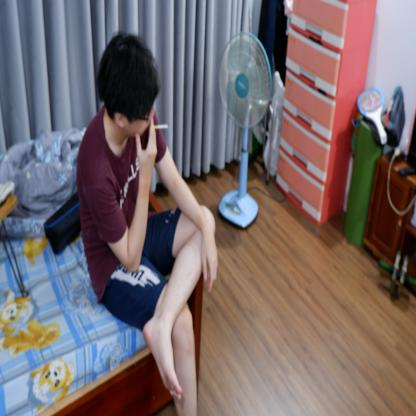cigarette: (154, 122, 170, 132)
person: (81, 33, 216, 415)
